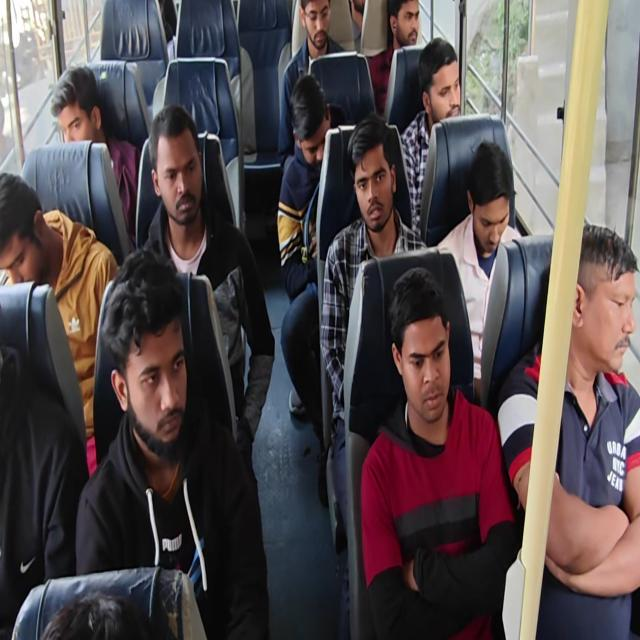person: (1, 1, 638, 638), (74, 247, 270, 638), (496, 222, 640, 638), (360, 266, 517, 638), (140, 103, 275, 484), (319, 113, 428, 551), (0, 172, 119, 469), (0, 302, 89, 637), (435, 140, 523, 402), (276, 72, 332, 432), (49, 64, 140, 245), (399, 37, 461, 239), (278, 0, 347, 158), (367, 0, 420, 116), (40, 590, 157, 639)
